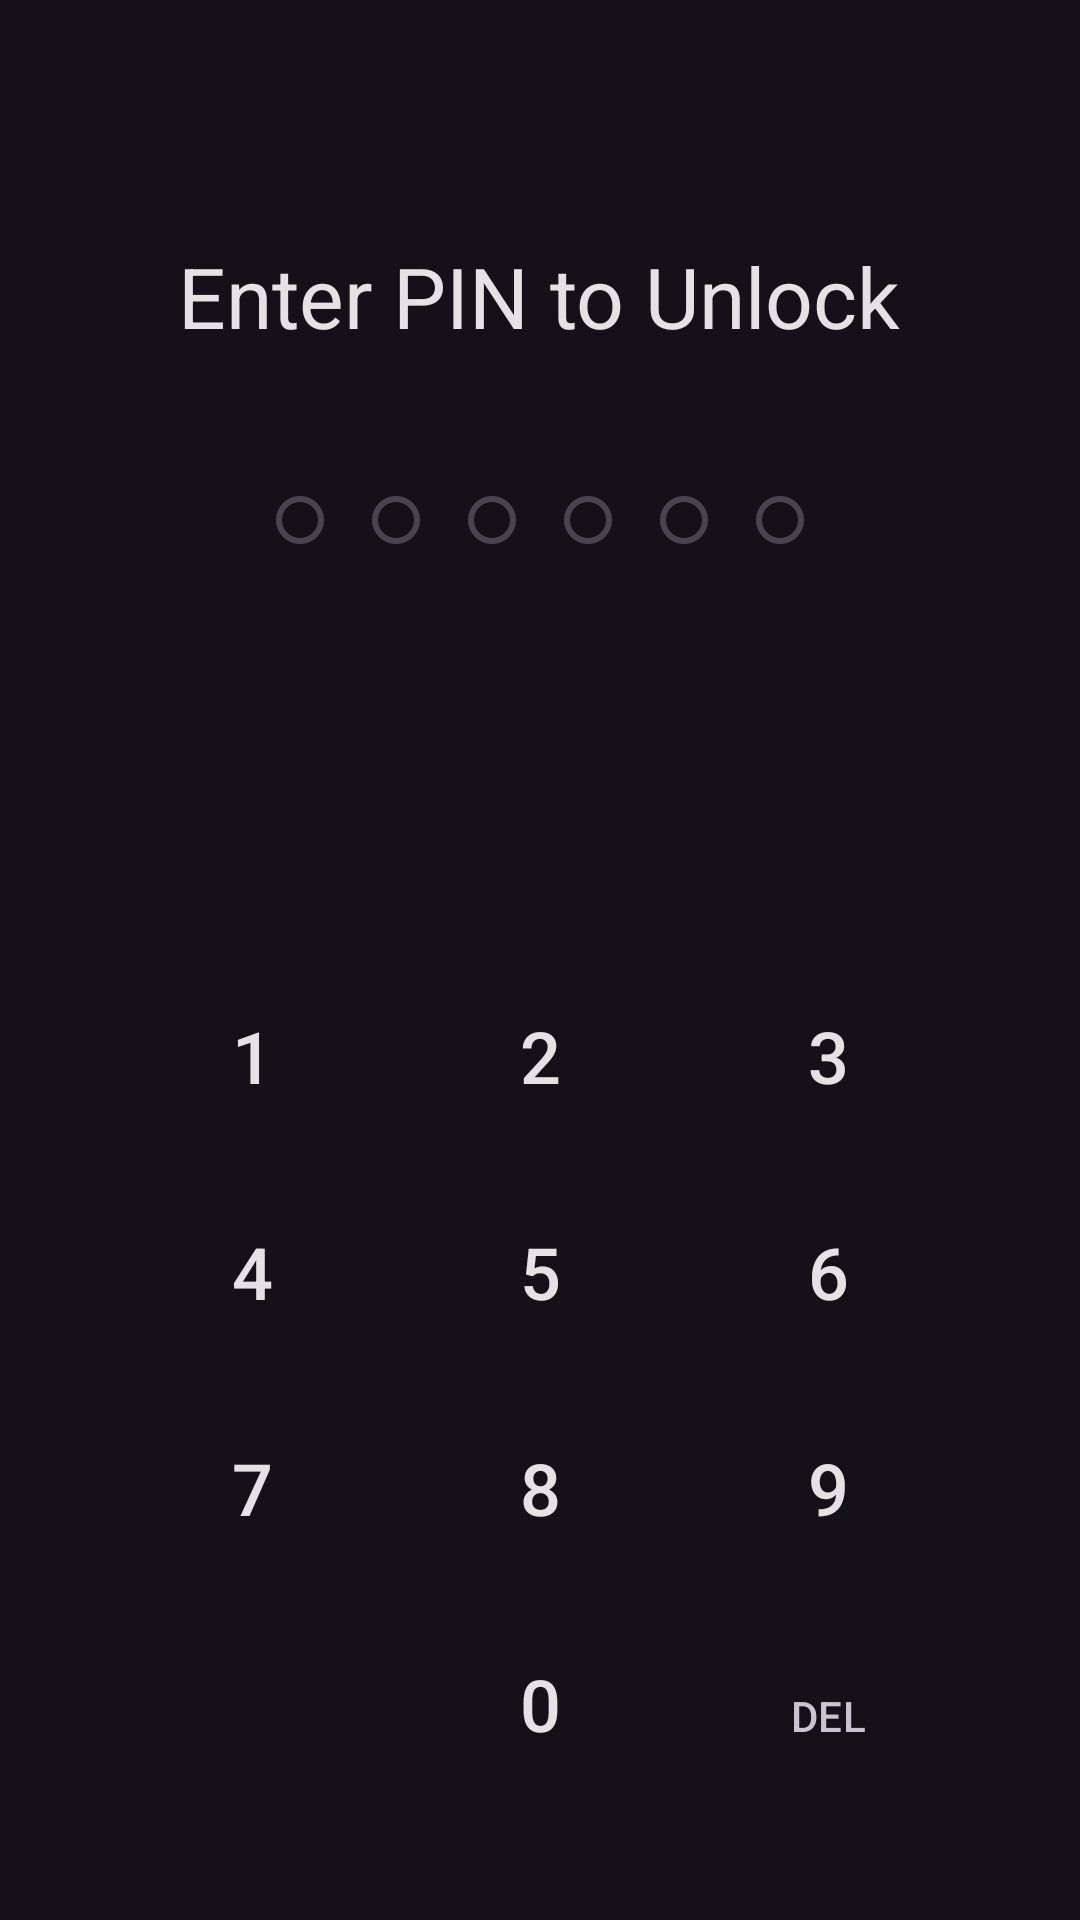

Icon click points for this 1080w x 1920h phone screenshot, format point (x, y):
pin dot empty: point (300, 520), point (396, 520), point (492, 520), point (588, 520), point (684, 520), point (780, 520)
